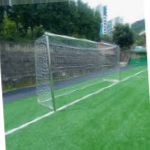goals: (31, 30, 124, 110)
